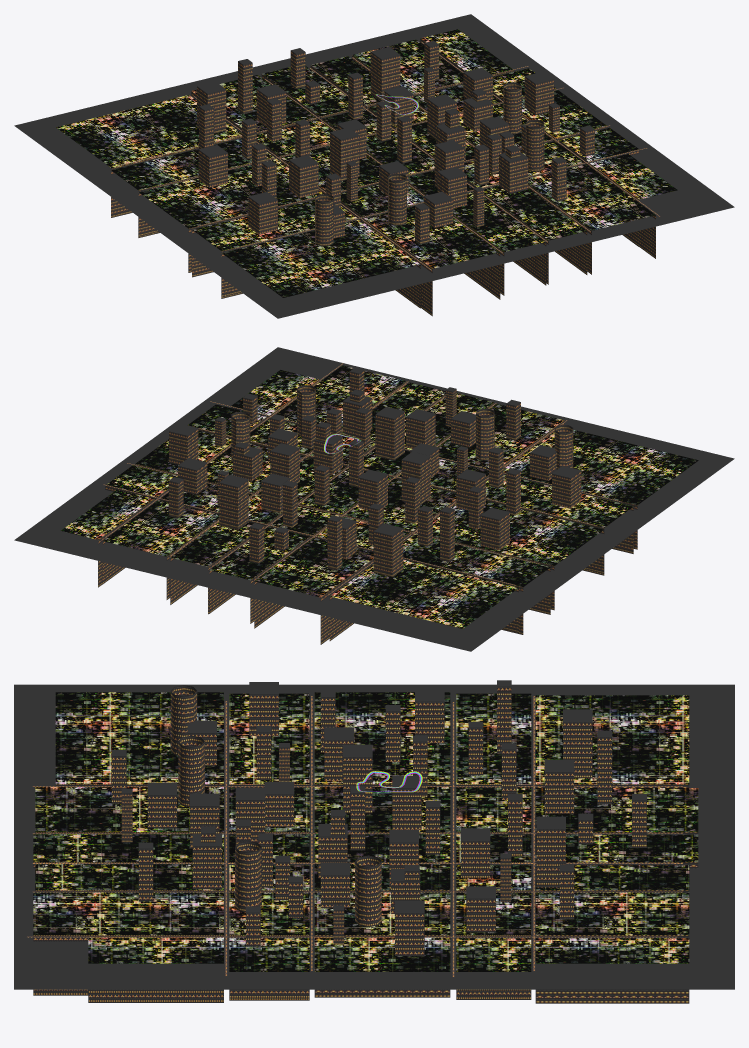
3 views of the same model, one above another, from view 1: azimuth 30°, elevation 25°; view 2: azimuth 150°, elevation 25°; view 3: azimuth 270°, elevation 25° (orthographic). The views are drawn at different scales.
Parts seen in each view (by area): view 1: Plane.198, Plane.201; view 2: Plane.198, Plane.201; view 3: Plane.198, Plane.201.
Part boxes in pixels (left/top/right/bottom): Plane.198: left=14, top=14, right=734, bottom=318; Plane.201: left=56, top=29, right=677, bottom=297; Plane.198: left=14, top=347, right=734, bottom=651; Plane.201: left=61, top=365, right=698, bottom=628; Plane.198: left=14, top=680, right=734, bottom=1003; Plane.201: left=33, top=692, right=698, bottom=971.
Size of the model in its own units: 595498 by 124003 by 595498.
4 materials, 4 textured.
